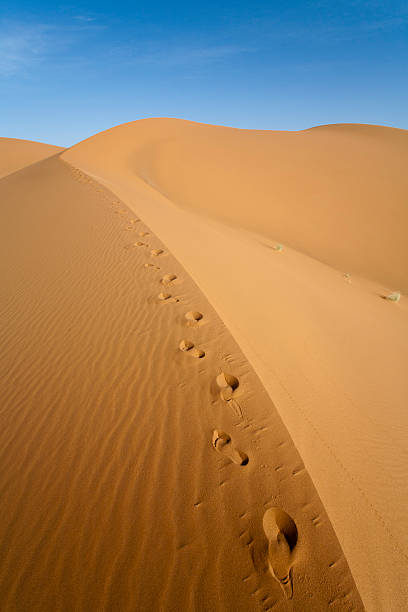human_foot_print: (263, 507, 297, 598), (212, 430, 248, 465), (216, 372, 242, 418), (179, 339, 204, 358), (185, 311, 202, 325), (158, 291, 178, 302), (160, 273, 176, 284)
